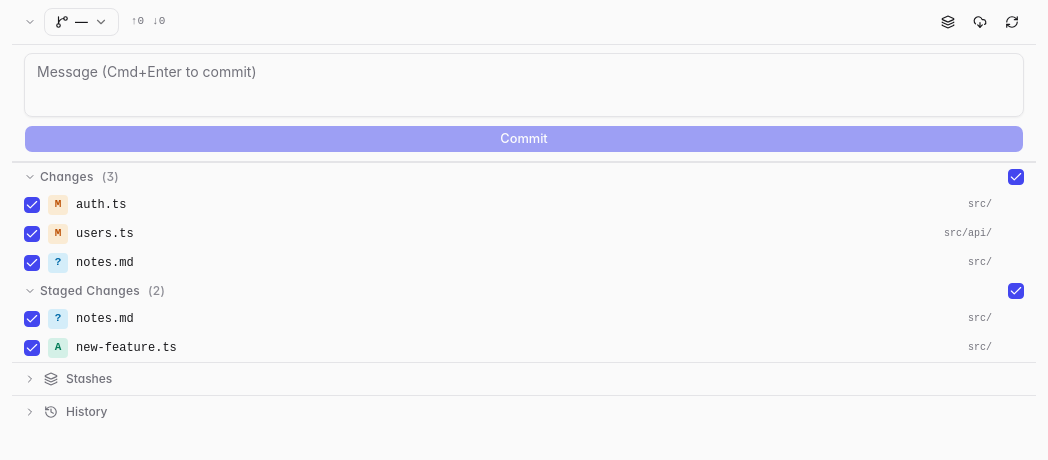
Test case: SourceControlPanel › clears the message and shows the success banner on commit success
Step 1. Type "msg" into the text box with test id "scm-message" → (524, 85), box [24, 53, 1024, 117]
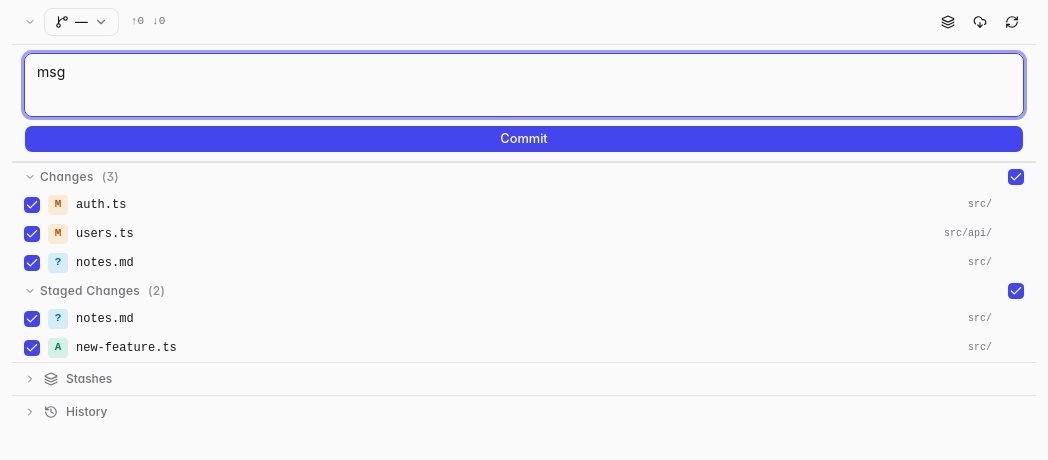
Step 2. Click the button with test id "scm-commit-submit" → click(524, 139), box [24, 125, 1024, 153]
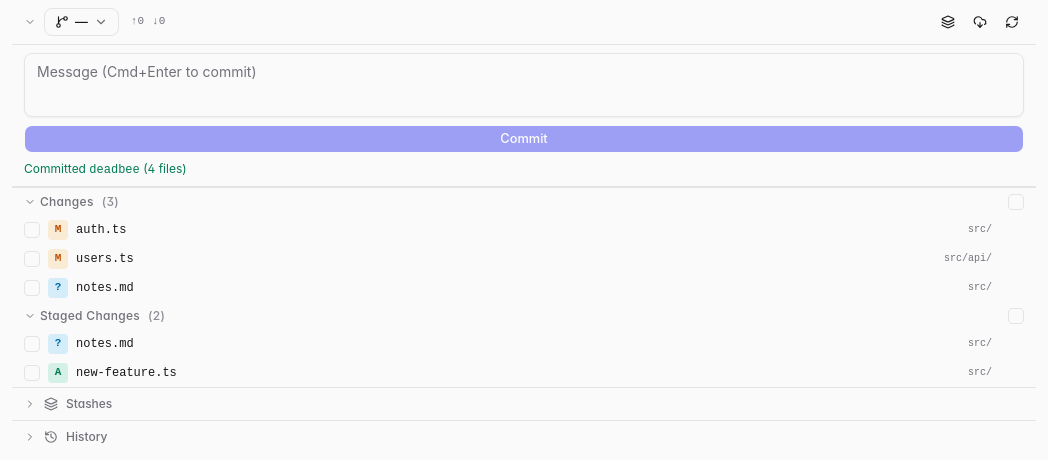
Now the message with test id "scm-commit-success" shows "deadbee", box [89, 163, 140, 177]
Now the message with test id "scm-commit-success" shows "4 files", box [24, 161, 187, 177]
Now the text box with test id "scm-message" is empty, box [24, 53, 1024, 117]
